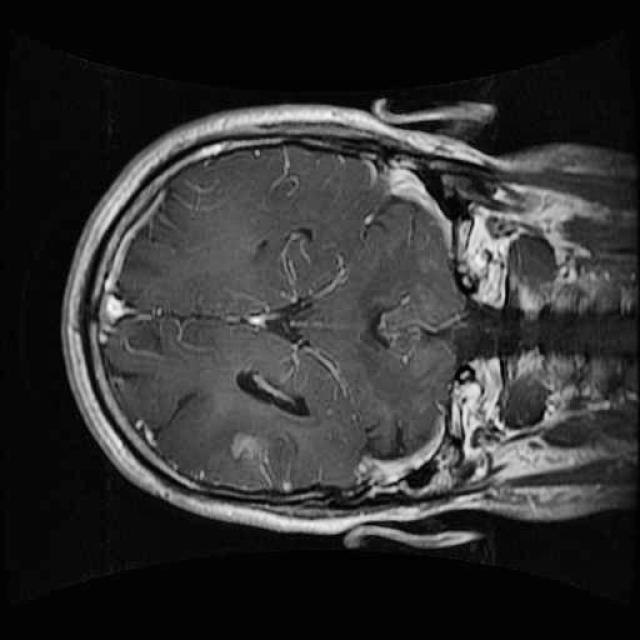Non-Tumor: (230, 360, 320, 428)
